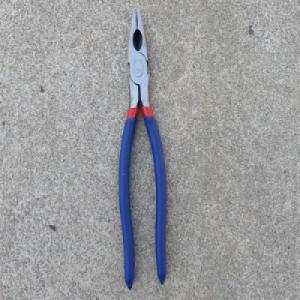Pliers: (117, 5, 168, 293)
